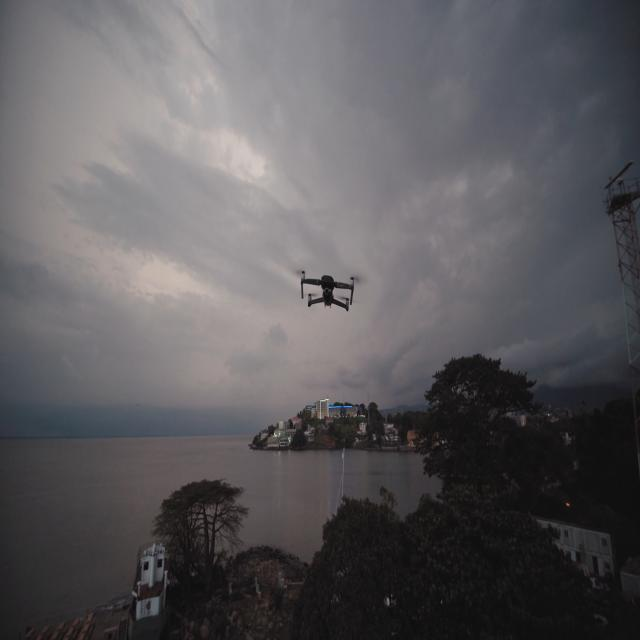drone: (300, 269, 356, 312)
